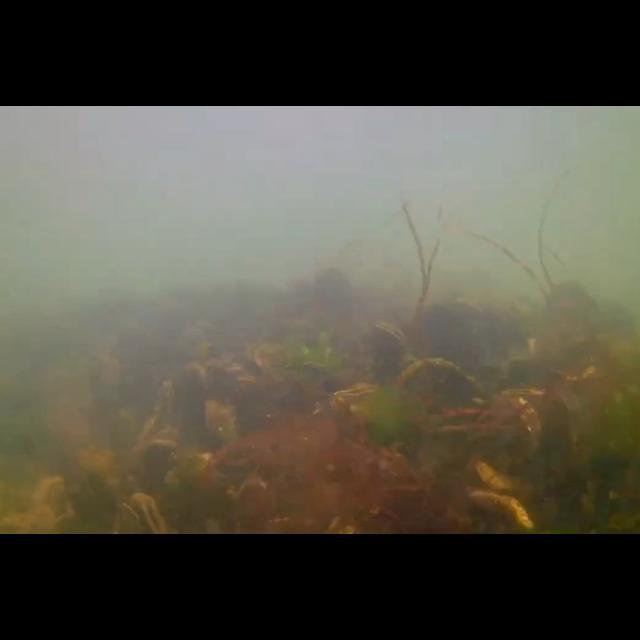Oyster-Closed: (388, 356, 492, 428), (466, 393, 544, 462), (169, 363, 217, 453), (464, 490, 540, 530), (139, 378, 175, 454), (474, 458, 538, 494), (204, 396, 242, 456), (160, 450, 218, 488)
Oyster-Open: (372, 320, 412, 396), (114, 493, 166, 535), (132, 424, 180, 468), (330, 383, 382, 415)
